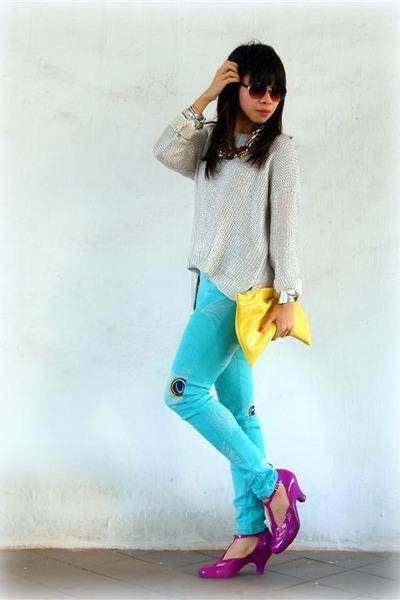sweater: (158, 109, 319, 289)
trousers: (160, 264, 282, 546)
